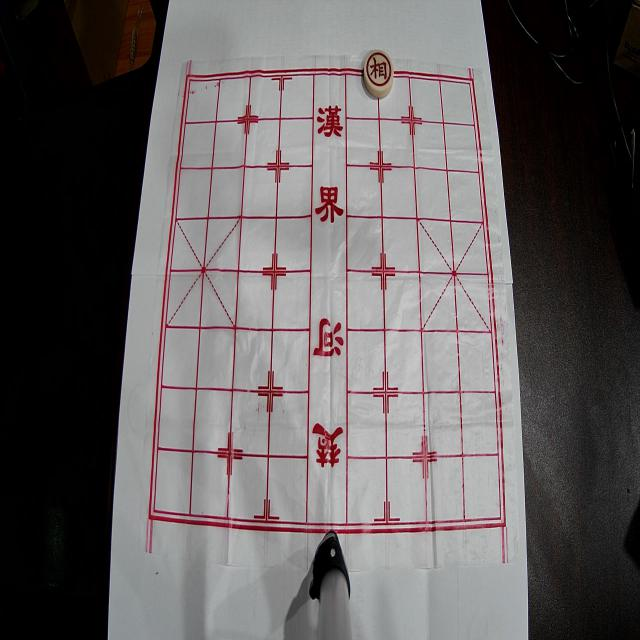red-elephant: (364, 50, 394, 99)
